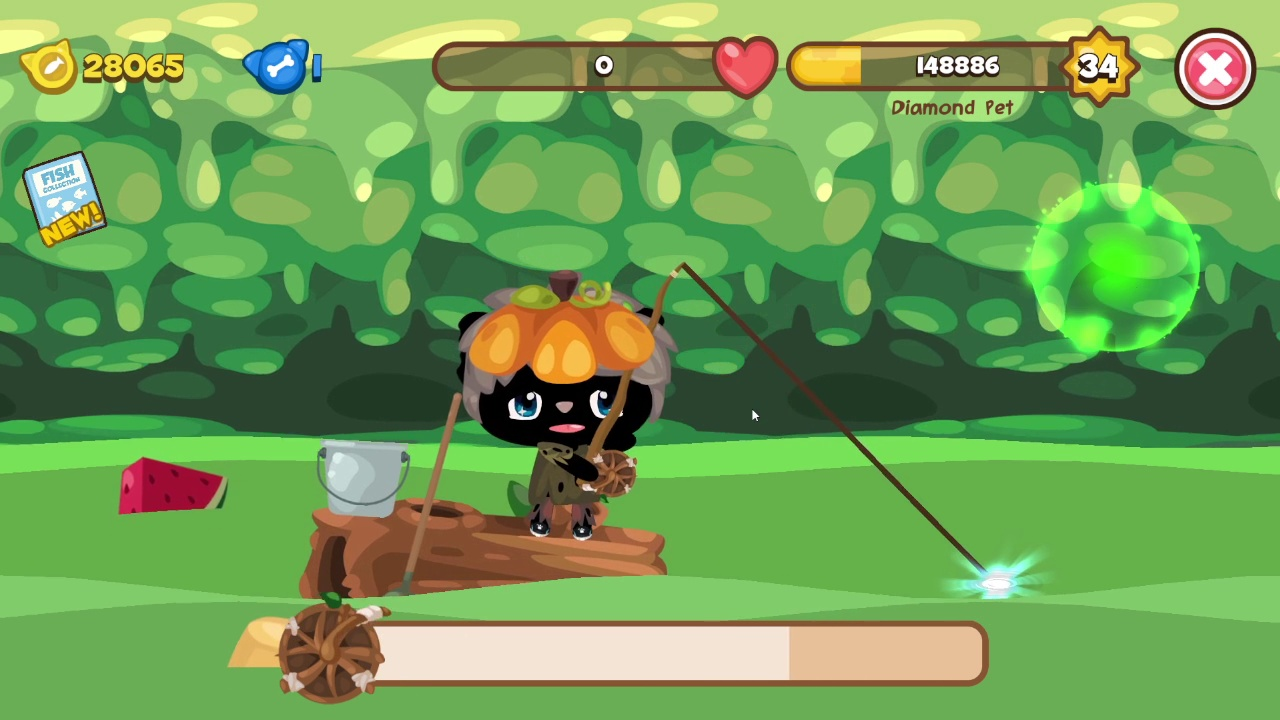point: (1028, 181, 1203, 359)
